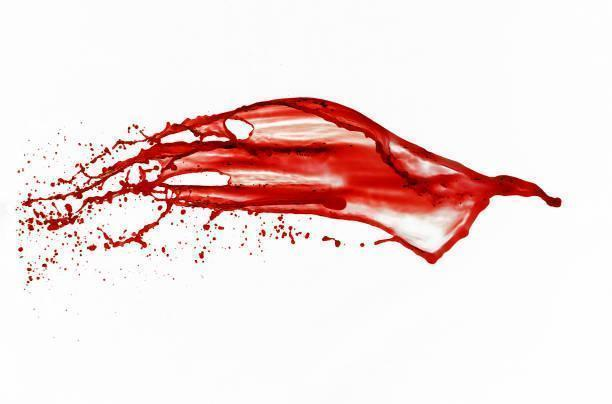Fire: (138, 98, 562, 262), (15, 124, 168, 300), (170, 209, 365, 282)
